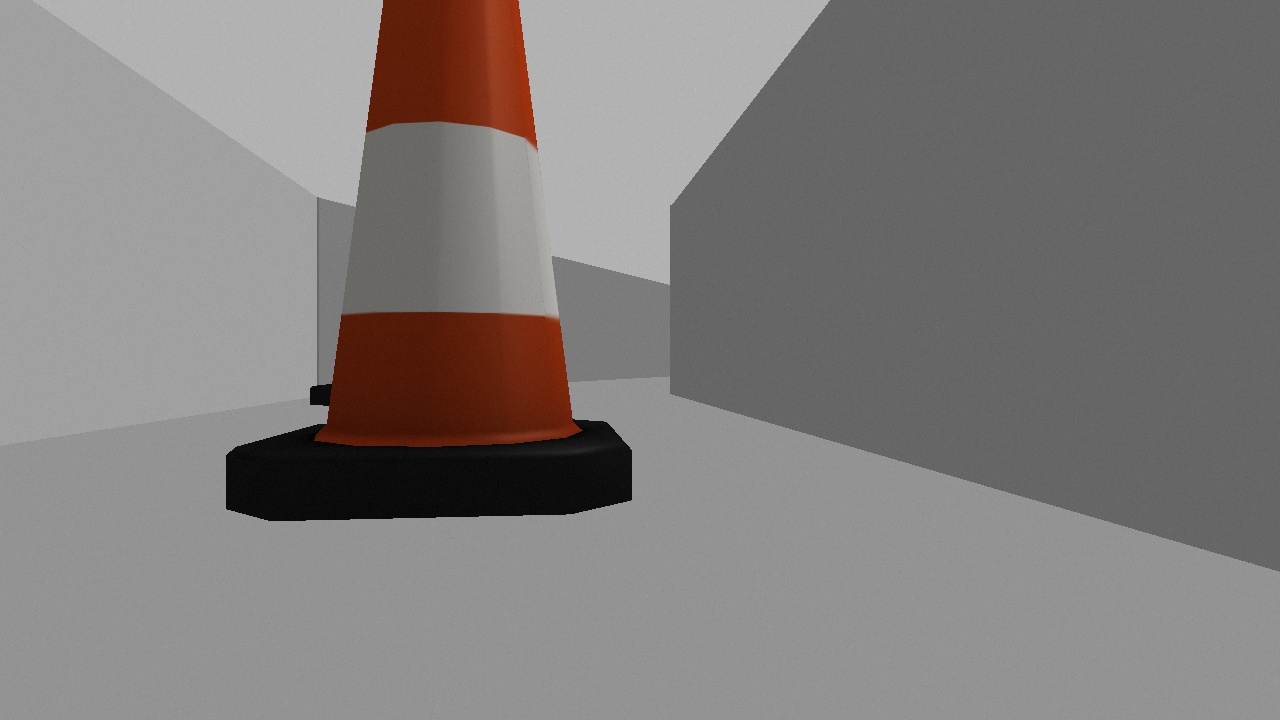barricade: (221, 1, 634, 521)
